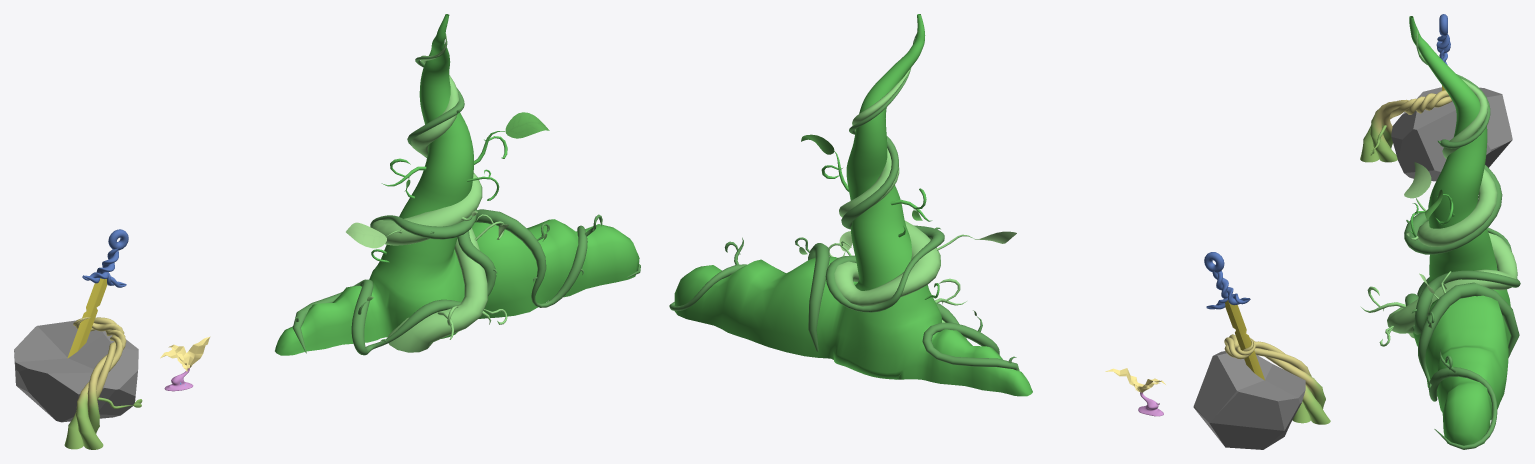
Rendered from Complex.fbx.
3 views of the same model, side by side, from view 1: azimuth 30°, elevation 25°; view 2: azimuth 150°, elevation 25°; view 3: azimuth 270°, elevation 25° (orthographic).
Visible parts, largest first — view 1: Cube.013, Stone.002, Nurbs路徑.012, Nurbs路徑.010, vine.002, NurbsPath.022, Plane.032, Cylinder.006, Sphere.002, Torus.003; view 2: Cube.013, Stone.002, Nurbs路徑.012, Nurbs路徑.010, vine.002, NurbsPath.022, Torus.003, Plane.032, Sphere.002, Cylinder.006; view 3: Cube.013, Nurbs路徑.012, Stone.002, Nurbs路徑.010, vine.002, NurbsPath.022, Plane.032, Torus.003.
Part boxes in pixels (<box>): Cube.013: <box>275,14,639,355</box>; Stone.002: <box>14,320,138,422</box>; Nurbs路徑.012: <box>292,42,640,355</box>; Nurbs路徑.010: <box>371,33,487,352</box>; vine.002: <box>64,317,126,449</box>; NurbsPath.022: <box>295,109,602,341</box>; Plane.032: <box>346,112,549,300</box>; Cylinder.006: <box>160,336,210,391</box>; Sphere.002: <box>67,278,107,358</box>; Torus.003: <box>82,229,128,287</box>; Cube.013: <box>674,14,1032,396</box>; Stone.002: <box>1193,351,1305,449</box>; Nurbs路徑.012: <box>669,34,1019,370</box>; Nurbs路徑.010: <box>834,30,944,322</box>; vine.002: <box>1224,334,1330,424</box>; NurbsPath.022: <box>724,150,1016,363</box>; Torus.003: <box>1204,252,1250,309</box>; Plane.032: <box>799,134,1016,315</box>; Sphere.002: <box>1225,300,1264,380</box>; Cylinder.006: <box>1105,368,1165,416</box>; Cube.013: <box>1409,16,1510,445</box>; Nurbs路徑.012: <box>1404,34,1520,449</box>; Stone.002: <box>1391,87,1512,181</box>; Nurbs路徑.010: <box>1387,28,1517,338</box>; vine.002: <box>1360,90,1452,162</box>; NurbsPath.022: <box>1360,140,1456,389</box>; Plane.032: <box>1404,162,1442,328</box>; Torus.003: <box>1436,14,1450,64</box>.
Bounding box in the file's own units: 685 × 344 × 152.
